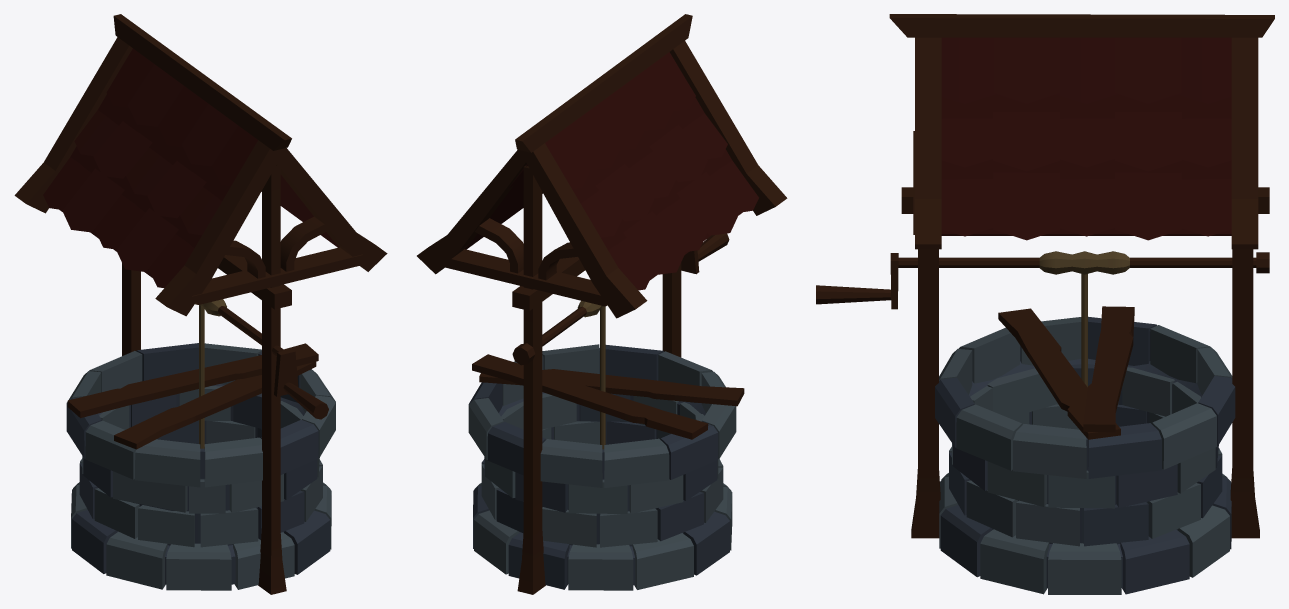
File: well.fbx
3 renders of one model, left to right at view 1: azimuth 30°, elevation 25°; view 2: azimuth 150°, elevation 25°; view 3: azimuth 270°, elevation 25°, orthographic. The views are drawn at different scales.
Parts seen in each view (by area): view 1: Well; view 2: Well; view 3: Well.
Boxes of the visible parts, <box> form: Well: <box>14,14,387,594</box>; Well: <box>417,14,787,594</box>; Well: <box>816,14,1274,594</box>.
Bounding box in the file's own units: 66.64 × 125 × 100.
